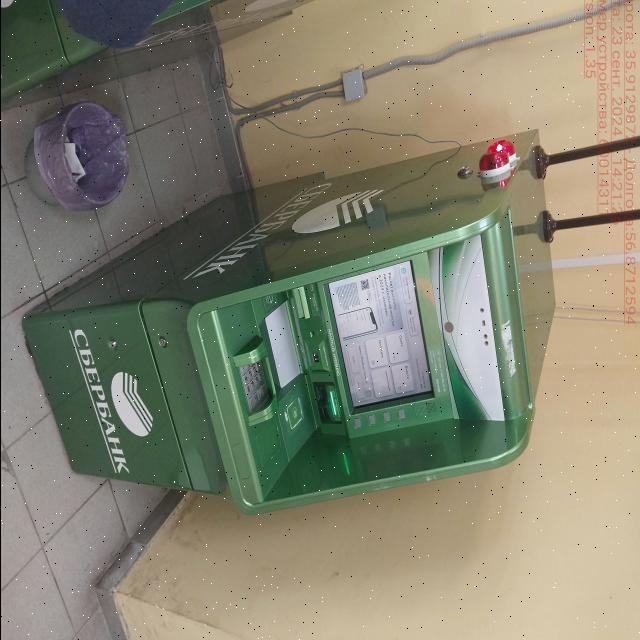bank: (24, 132, 564, 516), (0, 0, 371, 131)
